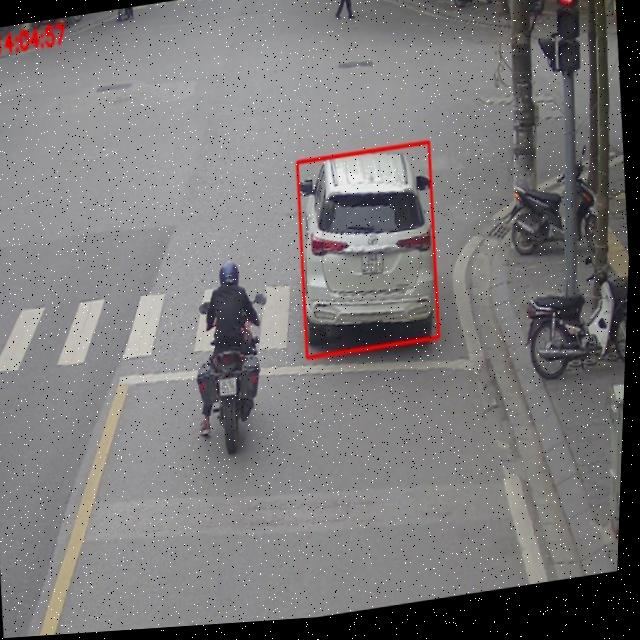Red: (547, 0, 586, 85)
